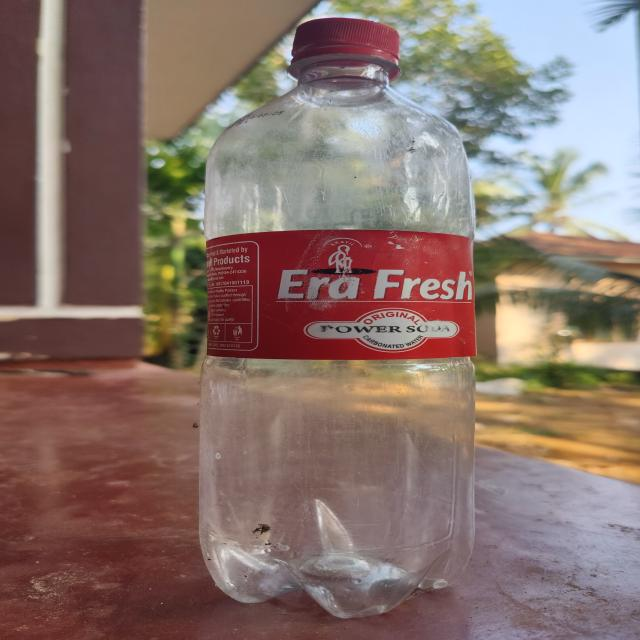plastic: (193, 11, 495, 629)
